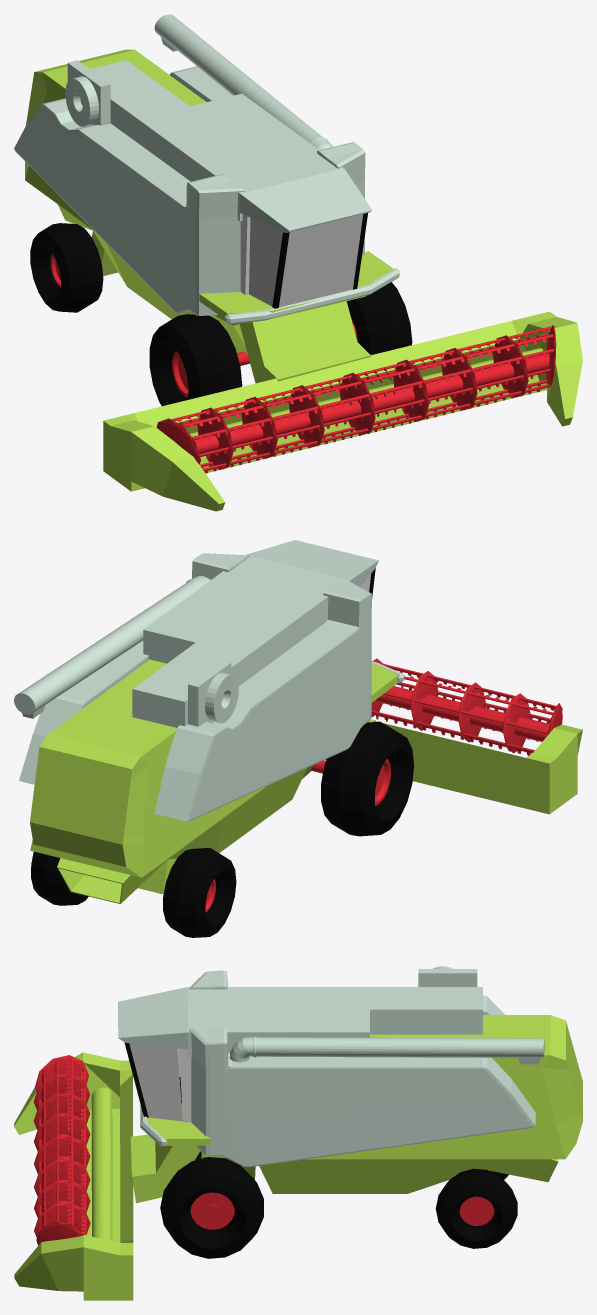
File: combine V11.fbx
The picture shows the model from 3 angles, top to bottom: view 1: azimuth 30°, elevation 25°; view 2: azimuth 150°, elevation 25°; view 3: azimuth 270°, elevation 25°; orthographic projection. The views are drawn at different scales.
Parts seen in each view (by area): view 1: side panels, roof and tank doors, tynes 1.007, header main part, chassis, wheel front left, windshield, wheel back left, feeder arm, wheel front right, glass left side, front bevel (+4 smaller); view 2: side panels, chassis, roof and tank doors, header main part, wheel front left, tynes 1.007, wheel back left, feeder arm, wheel back right, fan, fan background; view 3: side panels, chassis, roof and tank doors, header main part, tynes 1.007, wheel front right, feeder arm, wheel back right, feeder cylinder, glass right side, fan background, roof support back 4.
Part boxes in pixels (left/top/right/bottom): side panels: left=14, top=66, right=365, bottom=315; roof and tank doors: left=90, top=60, right=372, bottom=232; tynes 1.007: left=156, top=325, right=556, bottom=473; header main part: left=103, top=311, right=582, bottom=511; chassis: left=25, top=49, right=393, bottom=383; wheel front left: left=149, top=314, right=242, bottom=406; windshield: left=279, top=214, right=363, bottom=307; wheel back left: left=30, top=223, right=103, bottom=312; feeder arm: left=154, top=14, right=333, bottom=149; wheel front right: left=346, top=282, right=412, bottom=354; glass left side: left=249, top=217, right=282, bottom=306; front bevel: left=224, top=268, right=399, bottom=324; side panels: left=19, top=553, right=371, bottom=821; chassis: left=30, top=659, right=398, bottom=903; roof and tank doors: left=132, top=540, right=378, bottom=727; header main part: left=325, top=721, right=582, bottom=814; wheel front left: left=321, top=721, right=413, bottom=836; tynes 1.007: left=371, top=658, right=562, bottom=755; wheel back left: left=163, top=848, right=236, bottom=937; feeder arm: left=14, top=576, right=210, bottom=718; wheel back right: left=31, top=851, right=88, bottom=905; fan: left=205, top=672, right=238, bottom=723; fan background: left=188, top=660, right=231, bottom=726; side panels: left=189, top=970, right=535, bottom=1167; chassis: left=130, top=1015, right=582, bottom=1203; roof and tank doors: left=118, top=987, right=482, bottom=1057; header main part: left=14, top=1052, right=133, bottom=1300; tynes 1.007: left=33, top=1055, right=90, bottom=1245; wheel front right: left=160, top=1157, right=263, bottom=1258; feeder arm: left=229, top=1036, right=544, bottom=1064; wheel back right: left=435, top=1168, right=517, bottom=1248; feeder cylinder: left=91, top=1087, right=112, bottom=1240; glass right side: left=129, top=1043, right=182, bottom=1121; fan background: left=418, top=969, right=477, bottom=986; roof support back 4: left=179, top=1048, right=191, bottom=1122.
Bounding box in the file's own units: 1849 × 981 × 2280.
